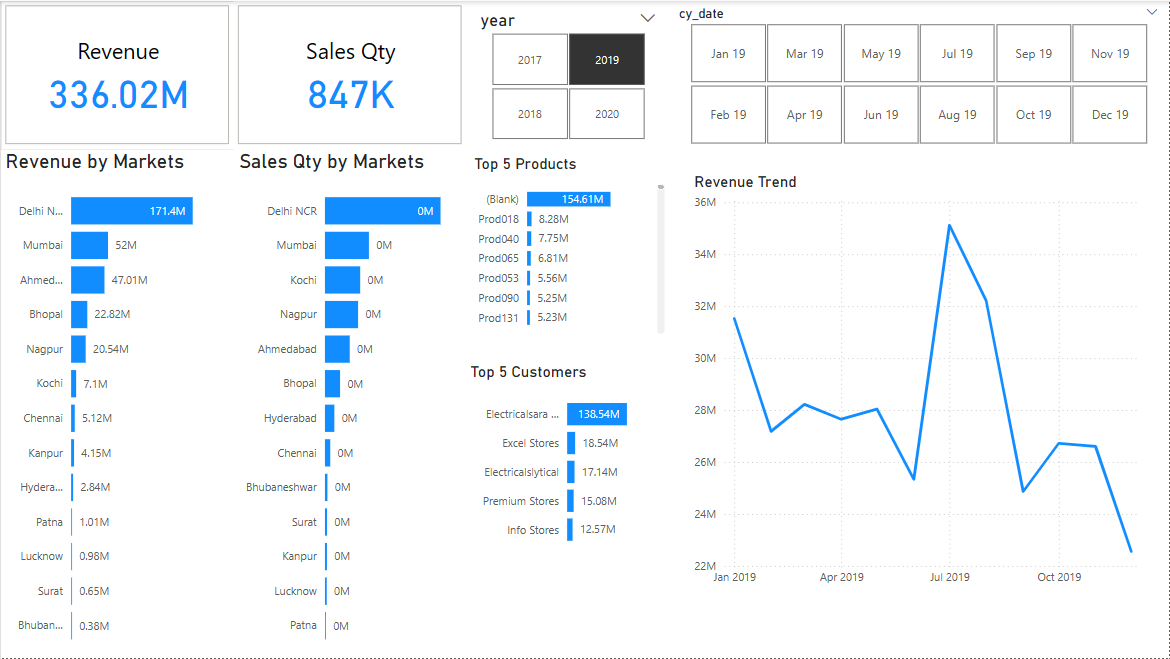

Layout of this report page (visuals, bound fields, positions):
{"tool":"powerbi","page":{"name":"Page 1","canvas":[1280,720],"ordinal":0},"visuals":[{"type":"cardVisual","fields":{"Data":["Base Measures.Revenue"]},"box":[0,0,255.7,162.9],"z":0},{"type":"cardVisual","fields":{"Data":["Base Measures.Sales Qty"]},"box":[254.3,0,255.7,162.9],"z":1000},{"type":"barChart","title":"Revenue by Markets","fields":{"Y":["Base Measures.Revenue"],"Category":["sales markets.markets_name"]},"box":[0,162.9,257.1,557.1],"z":2000},{"type":"barChart","title":"Sales Qty by Markets","fields":{"Category":["sales markets.markets_name"],"Y":["Base Measures.Sales Qty"]},"box":[255.7,162.9,255.7,557.1],"z":3000},{"type":"slicer","fields":{"Values":["sales date.year"]},"box":[511.4,5.7,217.1,152.9],"z":4000},{"type":"slicer","fields":{"Values":["sales date.cy_date"]},"box":[730,0,550,162.9],"z":5000},{"type":"barChart","title":"Top 5 Customers","fields":{"Y":["Base Measures.Revenue"],"Category":["sales customers.custmer_name"]},"box":[510,395.7,218.6,214.3],"z":6000},{"type":"barChart","title":"Top 5 Products","fields":{"Y":["Base Measures.Revenue"],"Category":["sales products.product_code"]},"box":[512.9,168.6,218.6,201.4],"z":7000},{"type":"lineChart","title":"Revenue Trend","fields":{"Y":["Base Measures.Revenue"],"Category":["sales date.cy_date"]},"box":[754.3,187.1,512.9,461.4],"z":8000}]}

Visuals, with their boxes in screenshot pixels (x1, y1, x2, y2), scaled from the page's 1280x720 canvas onto the 1170x659 screenshot:
cardVisual - Base Measures.Revenue: bbox=(0, 0, 234, 149)
cardVisual - Base Measures.Sales Qty: bbox=(232, 0, 466, 149)
"Revenue by Markets" barChart: bbox=(0, 149, 235, 658)
"Sales Qty by Markets" barChart: bbox=(234, 149, 467, 658)
slicer - sales date.year: bbox=(467, 5, 666, 145)
slicer - sales date.cy_date: bbox=(667, 0, 1169, 149)
"Top 5 Customers" barChart: bbox=(466, 362, 666, 558)
"Top 5 Products" barChart: bbox=(469, 154, 669, 339)
"Revenue Trend" lineChart: bbox=(689, 171, 1158, 594)
